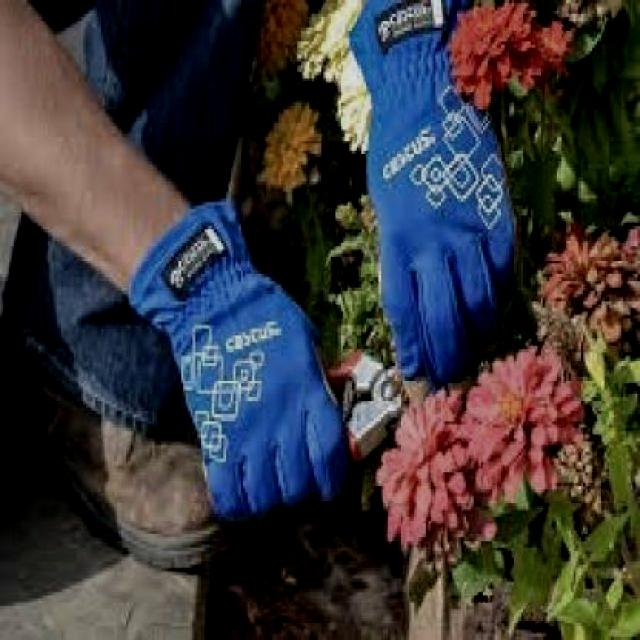Gloves: (126, 197, 339, 520), (338, 4, 514, 383)
